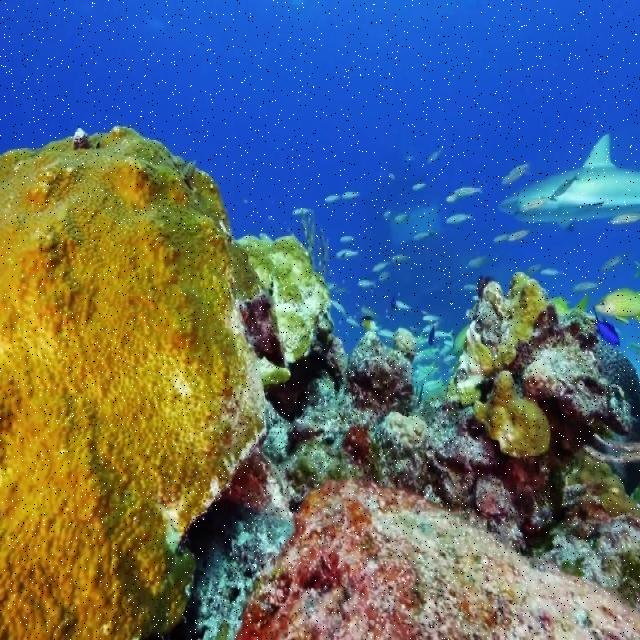fish: (501, 137, 639, 229), (596, 287, 639, 322)
reefs: (0, 127, 331, 638), (348, 271, 639, 555), (235, 482, 639, 639)
